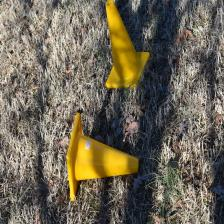cone: (66, 113, 138, 201), (105, 0, 150, 88)
